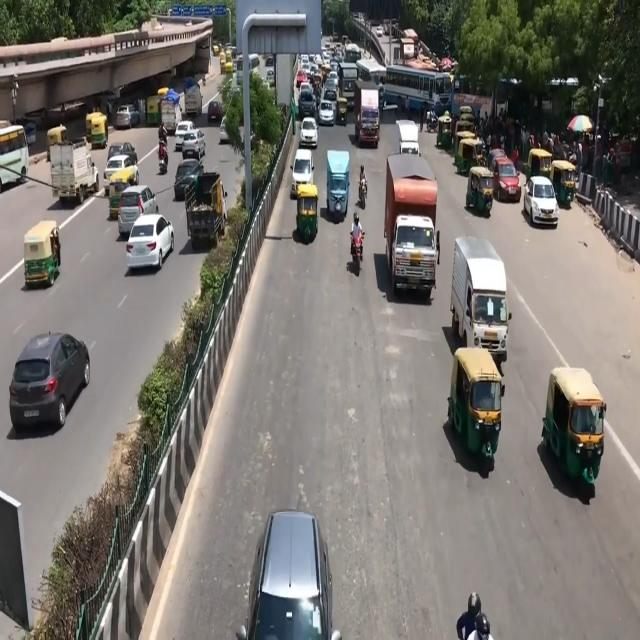Auto: (542, 368, 610, 516), (448, 344, 506, 491), (21, 217, 66, 289), (292, 182, 322, 257)
Bike: (344, 212, 368, 272)
Car: (5, 326, 103, 429), (127, 210, 180, 289)
Tempo: (379, 159, 446, 307), (454, 242, 514, 344)
